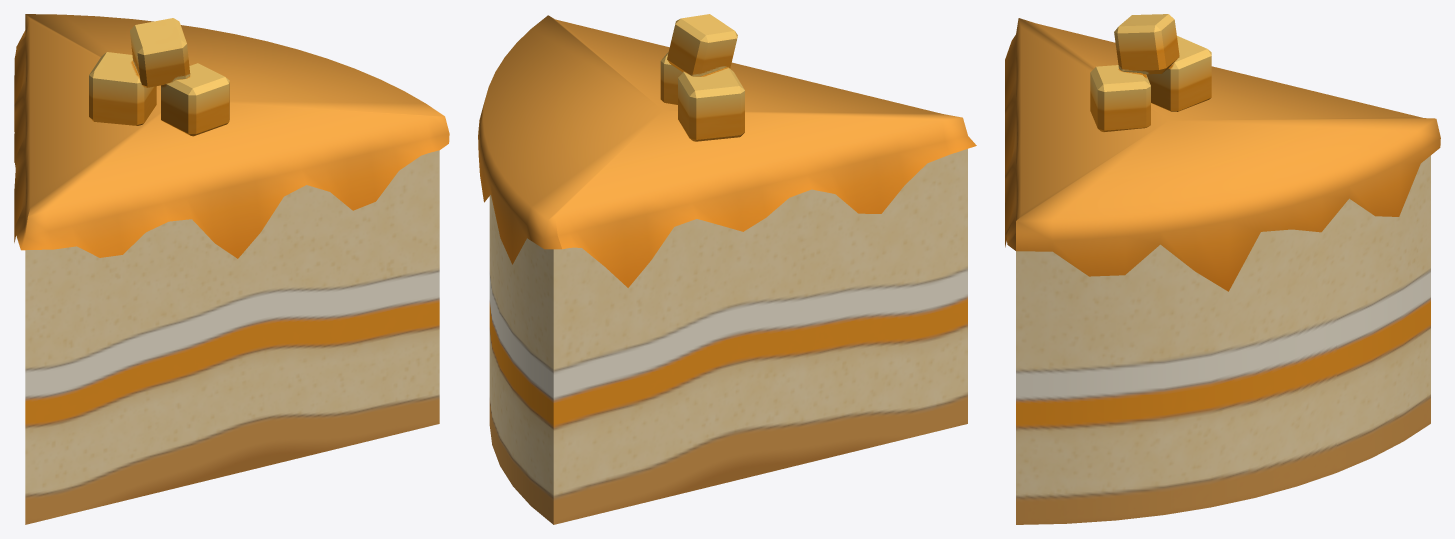
Rendered from mango_slice.glb.
3 renders of one model, left to right at view 1: azimuth 30°, elevation 25°; view 2: azimuth 150°, elevation 25°; view 3: azimuth 270°, elevation 25°, orthographic.
Parts seen in each view (by area): view 1: MangoSlice; view 2: MangoSlice; view 3: MangoSlice.
Part boxes in pixels (x1,y1,x2,y2): MangoSlice: [14, 14, 449, 524]; MangoSlice: [478, 14, 976, 524]; MangoSlice: [1005, 14, 1440, 524].
Bounding box in the file's own units: 1.04 × 0.9296 × 0.9096.
Materials: 1 (1 with a texture image).
